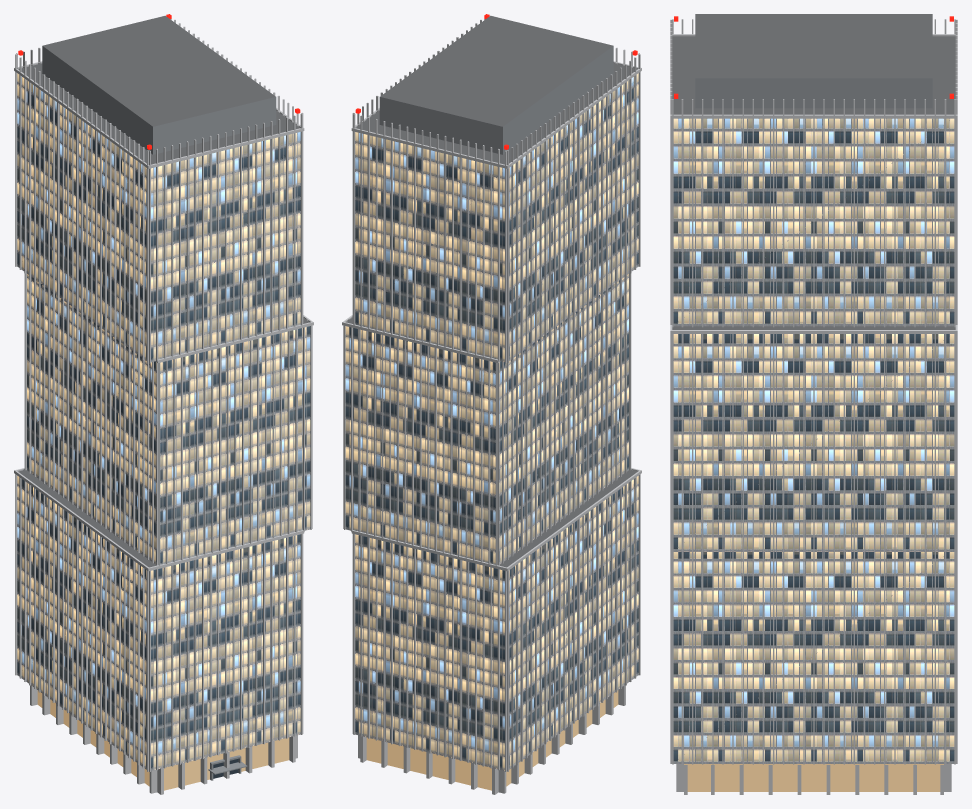
Rendered from tokiwabashi_tower.glb.
3 views of the same model, side by side, from view 1: azimuth 30°, elevation 25°; view 2: azimuth 150°, elevation 25°; view 3: azimuth 270°, elevation 25° (orthographic). The views are drawn at different scales.
Parts seen in each view (by area): view 1: tokiwabashi_tower; view 2: tokiwabashi_tower; view 3: tokiwabashi_tower.
Boxes of the visible parts, x1=… form: tokiwabashi_tower: x1=14, y1=14, x2=313, y2=794; tokiwabashi_tower: x1=342, y1=14, x2=641, y2=794; tokiwabashi_tower: x1=670, y1=14, x2=957, y2=794.
Bounding box in the file's own units: 55.5 × 212 × 78.
2 materials, 2 textured.
